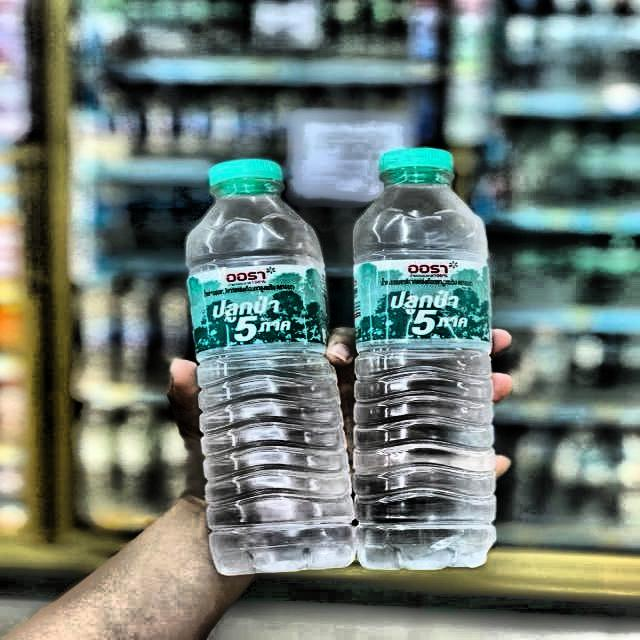plastic bottle: (186, 159, 354, 576), (354, 148, 497, 570)
